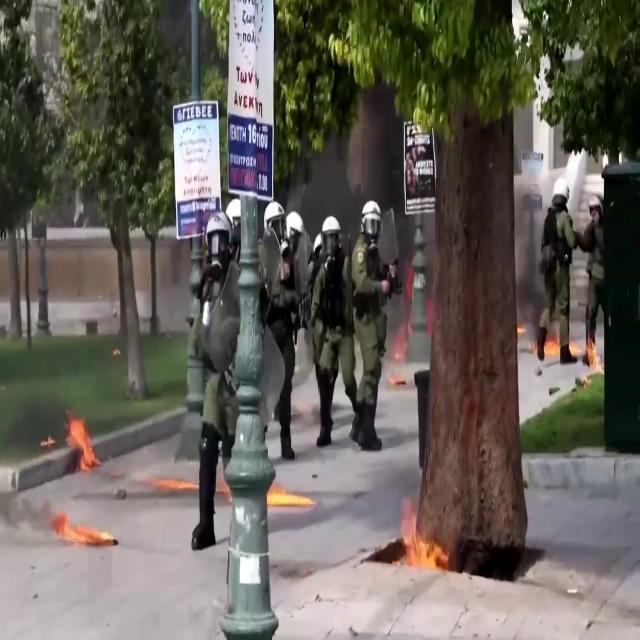Fire: (396, 496, 447, 572), (46, 503, 116, 549), (62, 408, 98, 472), (266, 479, 308, 506), (542, 330, 562, 360)
Smoke: (512, 154, 552, 336)
